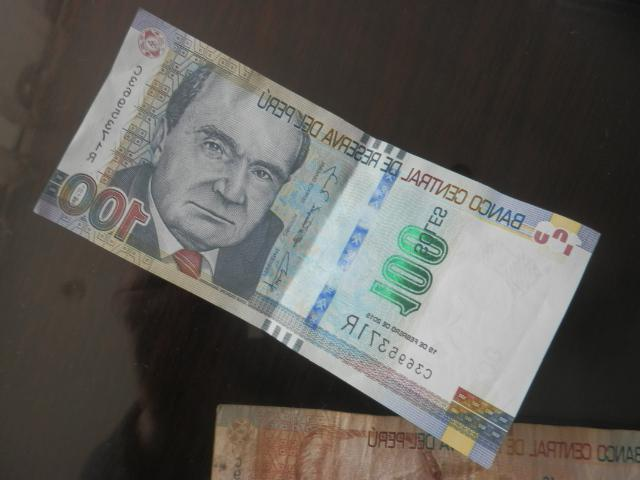B100: (32, 9, 601, 467)
